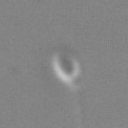normal: (60, 80, 96, 128)
